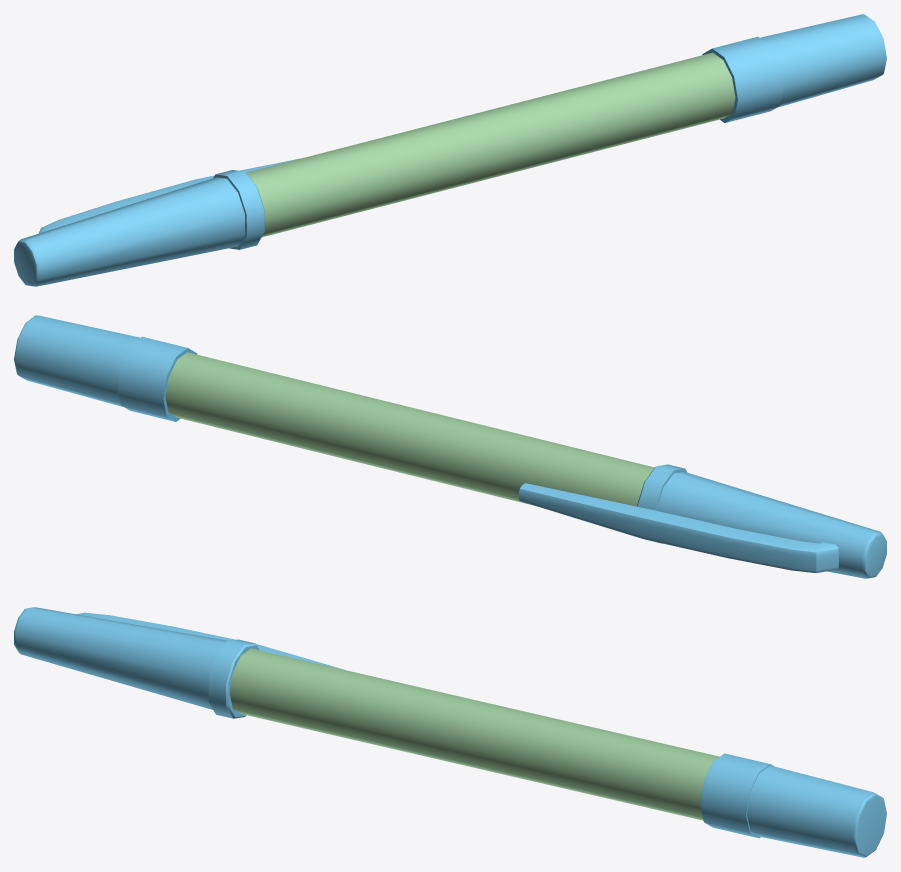
File: Pen_Collider.fbx
3 renders of one model, top to bottom at view 1: azimuth 30°, elevation 25°; view 2: azimuth 150°, elevation 25°; view 3: azimuth 330°, elevation 25°, orthographic.
Visible parts, largest first — view 1: Pen_Collider; view 2: Pen_Collider; view 3: Pen_Collider.
Boxes of the visible parts, x1,y1,x2,y2 form: Pen_Collider: (14,14,886,286); Pen_Collider: (14,315,886,578); Pen_Collider: (14,607,886,857).
Size of the model in its own units: 22.09 by 1.82 by 2.28.
